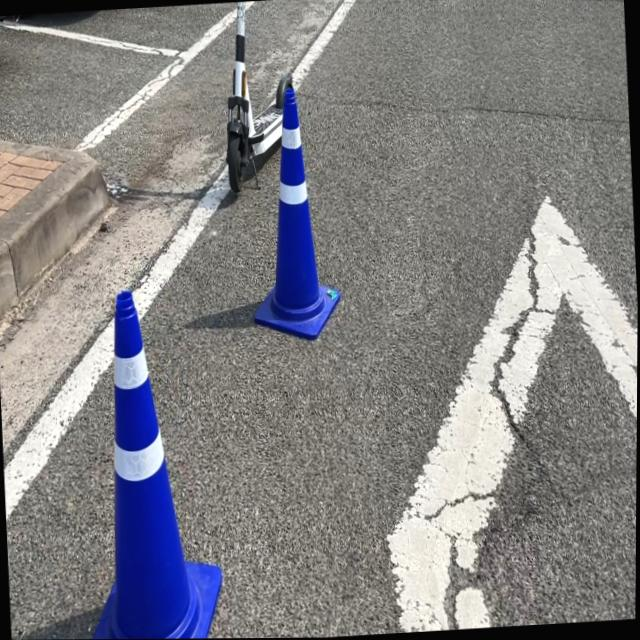b_rub: (93, 291, 223, 639), (255, 85, 341, 339)
